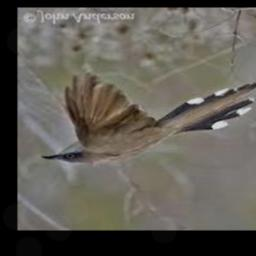Cuckoo: (41, 74, 256, 165)
